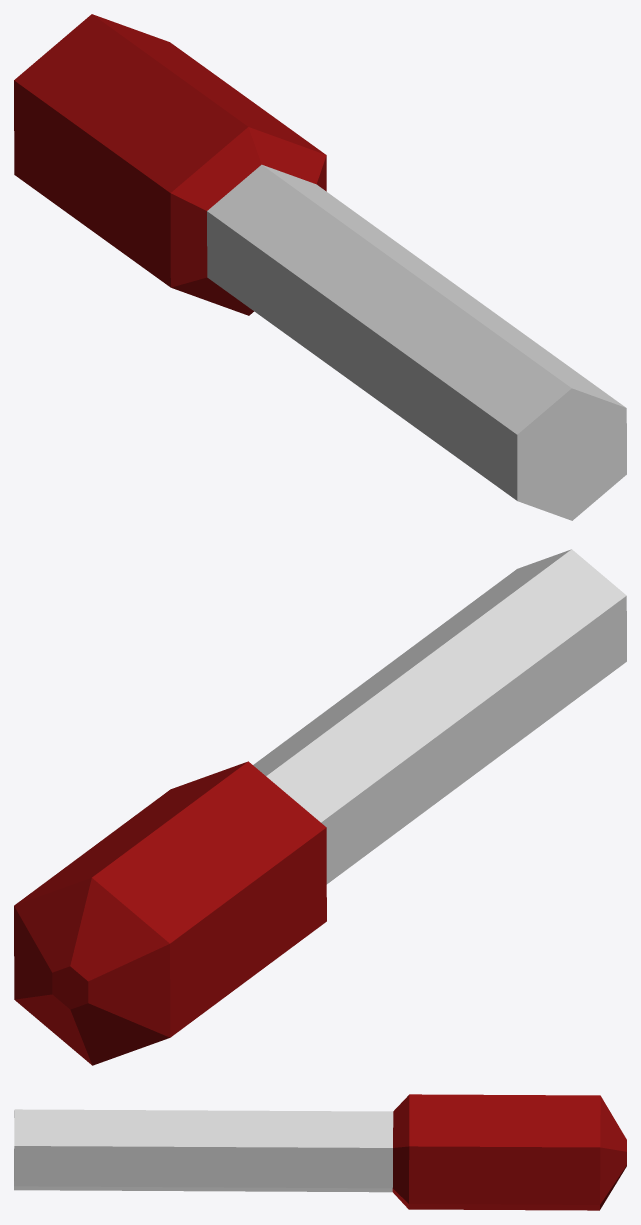
Rendered from PenMarkerV2Red.fbx.
The picture shows the model from 3 angles, top to bottom: view 1: azimuth 30°, elevation 25°; view 2: azimuth 150°, elevation 25°; view 3: azimuth 270°, elevation 25°; orthographic projection. The views are drawn at different scales.
Parts seen in each view (by area): view 1: PenMarkerV2Red; view 2: PenMarkerV2Red; view 3: PenMarkerV2Red.
Part boxes in pixels (<box>): PenMarkerV2Red: <box>14,14,626,520</box>; PenMarkerV2Red: <box>14,549,626,1065</box>; PenMarkerV2Red: <box>14,1094,626,1210</box>.
Bounding box in the file's own units: 1.93 × 2.25 × 10.75.
